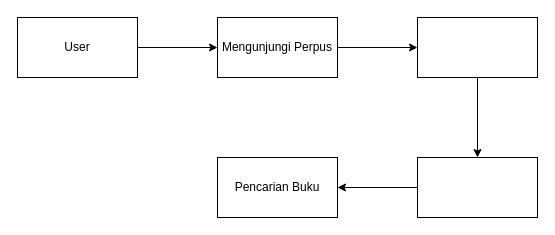
Some shapes in this 555 by 235 pixel diagram are drawn without their labels. Here are the shapes that lost their labels. From the top down, the centre of each, then its label:
At (x=477, y=47): "Mengisi from".
At (x=477, y=187): "Mengirim".
